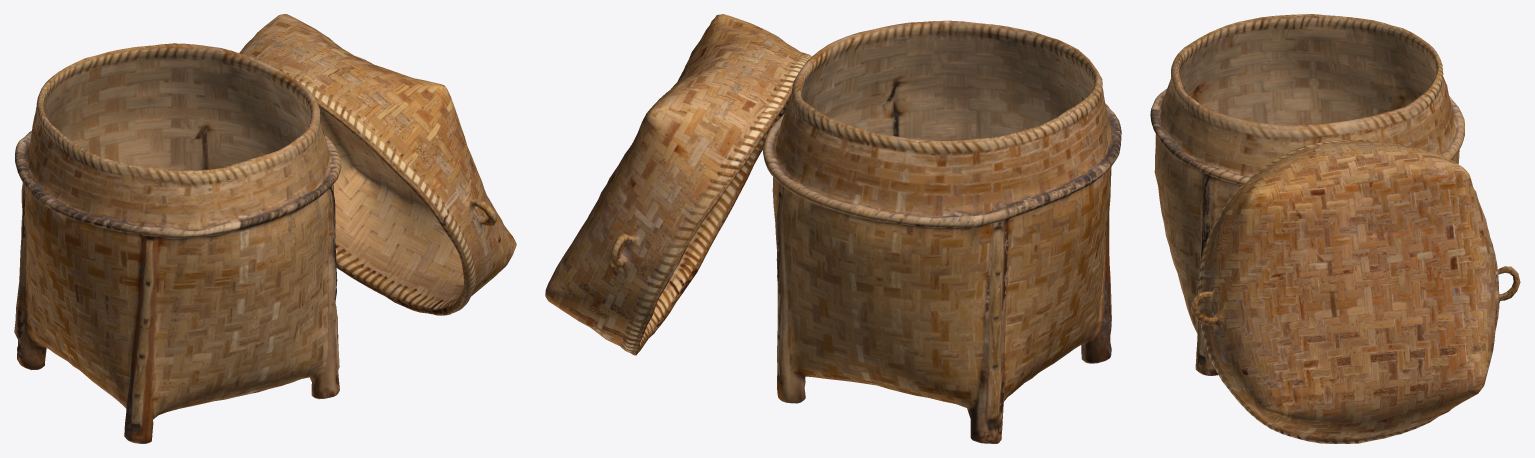
Rendered from wicker_basket_02.glb.
3 views of the same model, side by side, from view 1: azimuth 30°, elevation 25°; view 2: azimuth 150°, elevation 25°; view 3: azimuth 270°, elevation 25° (orthographic). The views are drawn at different scales.
Parts seen in each view (by area): view 1: wicker_basket_02_base; view 2: wicker_basket_02_base; view 3: wicker_basket_02_base.
Boxes of the visible parts, left/top/right/bottom form: wicker_basket_02_base: left=14, top=14, right=516, bottom=443; wicker_basket_02_base: left=545, top=14, right=1121, bottom=443; wicker_basket_02_base: left=1150, top=14, right=1520, bottom=443.
Size of the model in its own units: 0.3469 by 0.2005 by 0.2545.
Materials: 1 (1 with a texture image).
